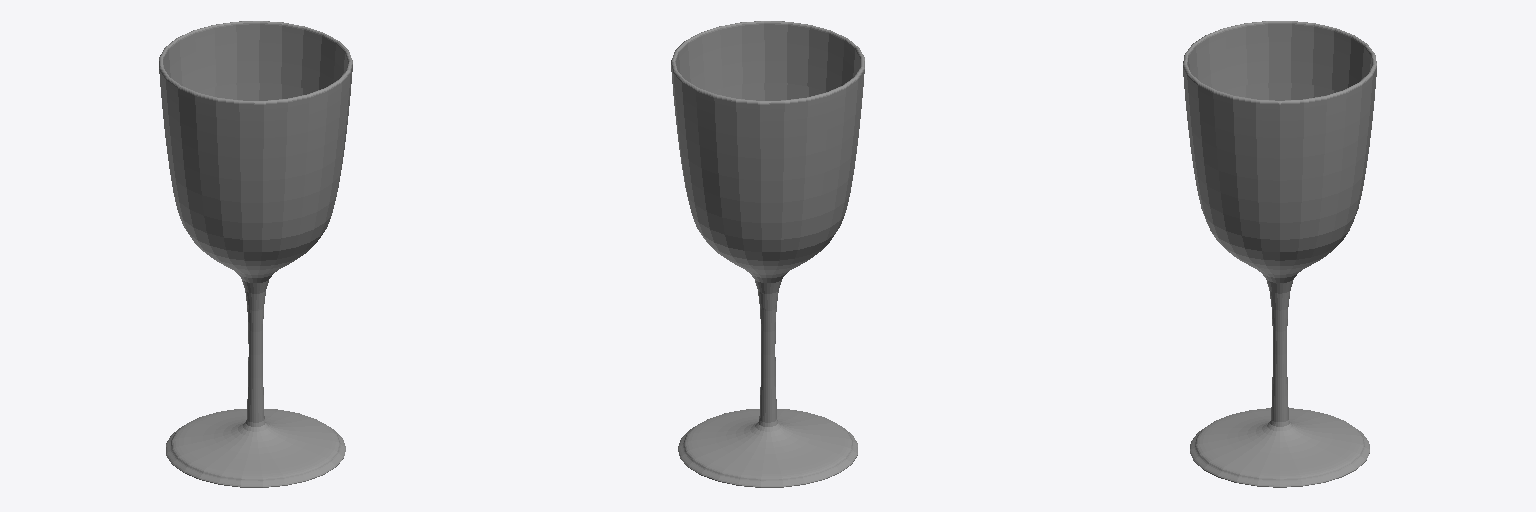
Rendered from wineglass.obj.
The picture shows the model from 3 angles: view 1: azimuth 30°, elevation 25°; view 2: azimuth 150°, elevation 25°; view 3: azimuth 270°, elevation 25°; orthographic projection.
Size of the model in its own units: 1.61 by 3.56 by 1.61.